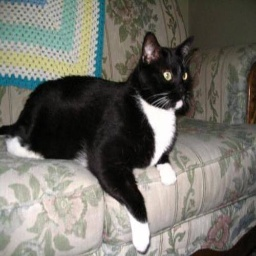cat: (6, 31, 195, 251)
